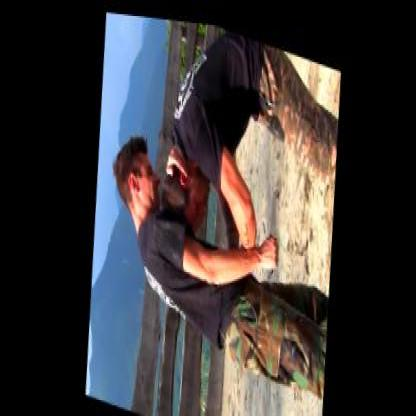knife: (258, 174, 284, 274)
